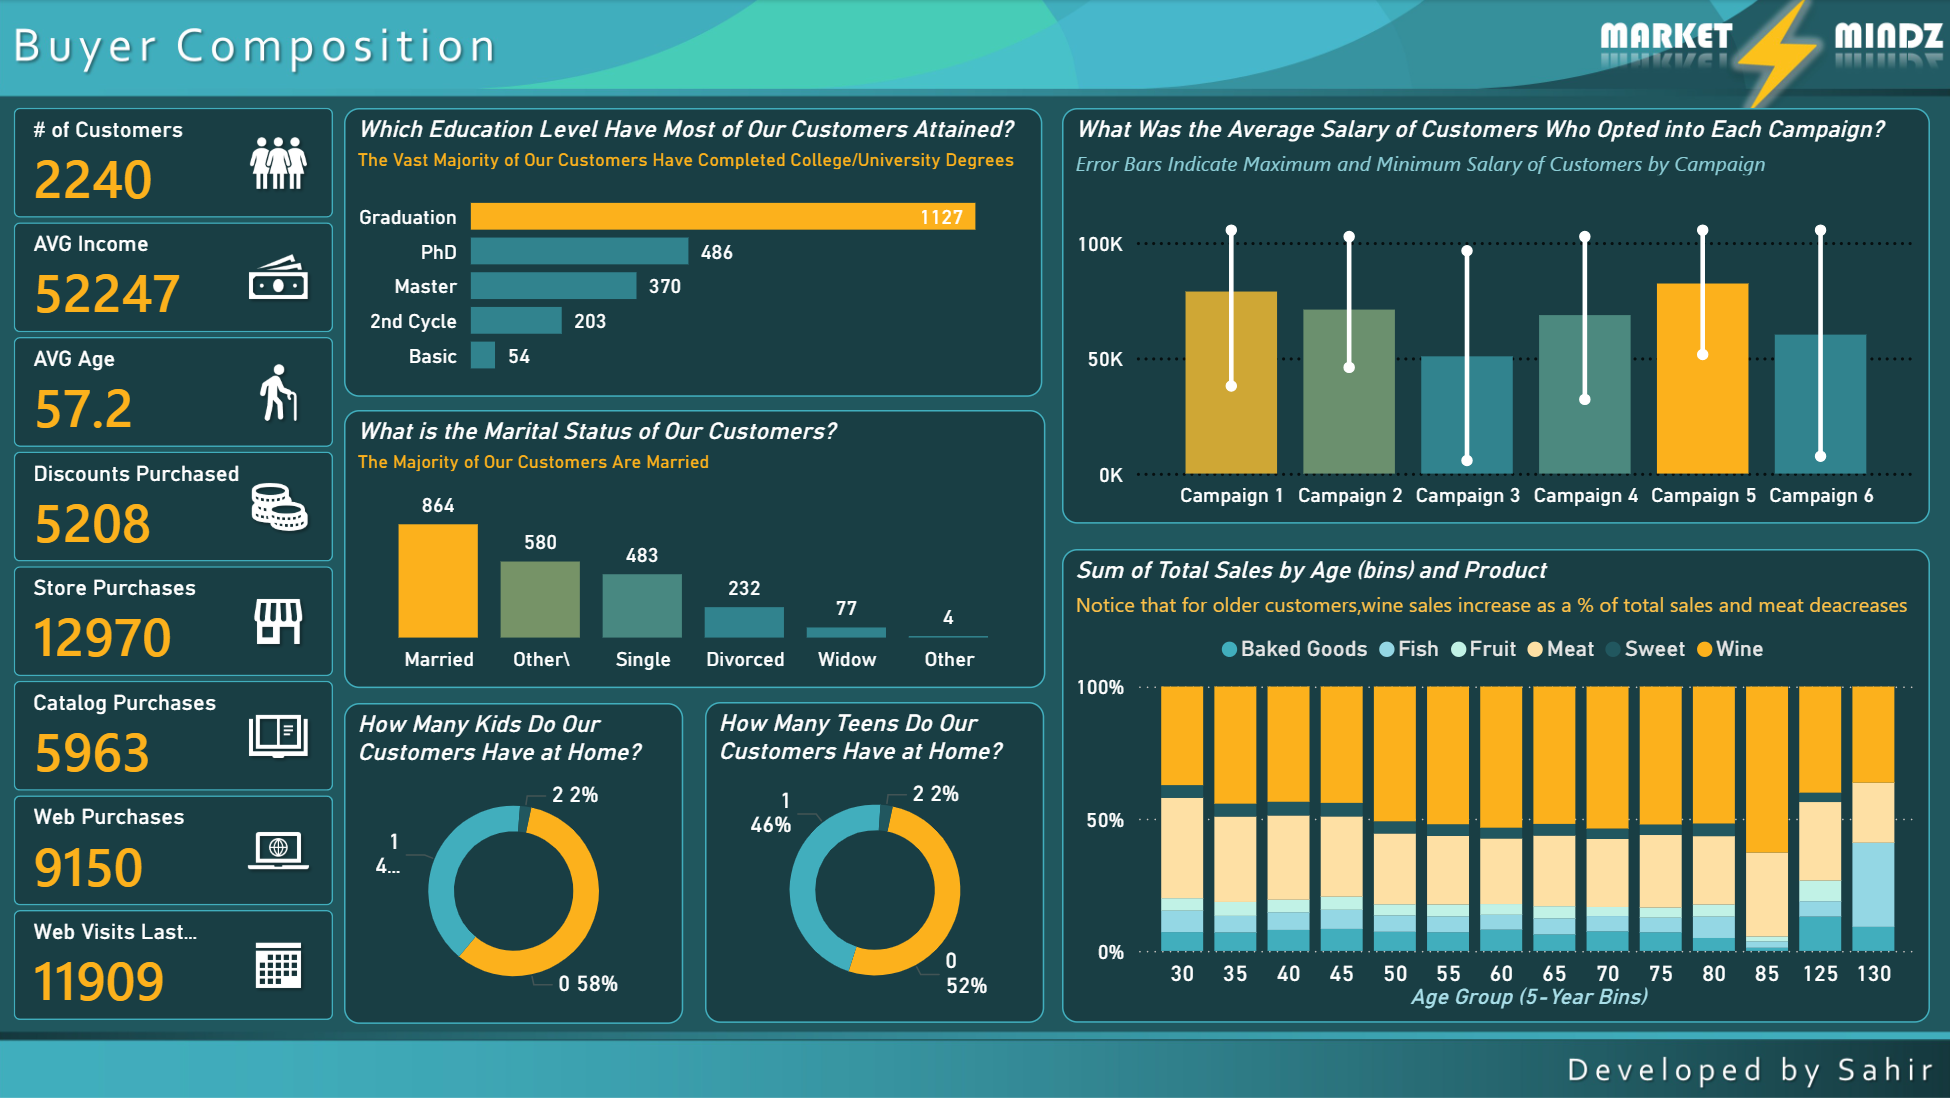

The dashboard page shown, as its layout file describes it:
{"tool":"powerbi","page":{"name":"Buyer Composition","canvas":[1280,720],"ordinal":1},"visuals":[{"type":"clusteredBarChart","title":"Which Education Level Have Most of Our Customers Attained?","fields":{"Category":["marketmindz_research_data.Education"],"Y":["CountNonNull(marketmindz_research_data.ID)"]},"box":[227.1,70.7,457.4,189.1],"z":0},{"type":"clusteredColumnChart","title":"What is the Marital Status of Our Customers?","fields":{"Category":["marketmindz_research_data.Marital_Status"],"Y":["CountNonNull(marketmindz_research_data.ID)"]},"box":[227.1,268.3,458.7,181.9],"z":1000},{"type":"donutChart","title":"How Many Kids Do Our Customers Have at Home?","fields":{"Category":["marketmindz_research_data.Kidhome"],"Y":["CountNonNull(marketmindz_research_data.ID)"]},"box":[227.1,460,222,210],"z":2000},{"type":"donutChart","title":"How Many Teens Do Our Customers Have at Home?","fields":{"Category":["marketmindz_research_data.Teenhome"],"Y":["CountNonNull(marketmindz_research_data.ID)"]},"box":[463.3,459.4,222.5,210.1],"z":3000},{"type":"clusteredColumnChart","title":"What Was the Average Salary of Customers Who Opted into Each Campaign?","fields":{"Category":["Capaign.Capaign"],"Y":["Avg(marketmindz_research_data. Income )"]},"box":[697,71,568,272.2],"z":4000},{"type":"hundredPercentStackedColumnChart","fields":{"Series":["products.Product"],"Y":["Sum(products.Total Sales)"],"Category":["marketmindz_research_data.Age (bins)"]},"box":[697,359,568,310],"z":5000},{"type":"cardVisual","fields":{"Data":["CountNonNull(marketing_data.ID)","Avg(marketing_data. Income )","Avg(marketing_data.Age)","Sum(marketing_data.Purchased - Deal)","Sum(marketing_data.Purchased - Store)","Sum(marketing_data.Purchased - Catalog)","Sum(marketing_data.Purchased - Web)","Sum(marketing_data.Web Visits Last Month)"]},"box":[3.9,63.5,223.1,617.8],"z":6000}]}

Visuals, with their boxes in screenshot pixels (x1, y1, x2, y2), scaled from the page's 1280x720 canvas onto the 1950x1098 screenshot:
"Which Education Level Have Most of Our Customers Attained?" clusteredBarChart: pyautogui.locateOnScreen(346, 108, 1043, 396)
"What is the Marital Status of Our Customers?" clusteredColumnChart: pyautogui.locateOnScreen(346, 409, 1045, 687)
"How Many Kids Do Our Customers Have at Home?" donutChart: pyautogui.locateOnScreen(346, 702, 684, 1022)
"How Many Teens Do Our Customers Have at Home?" donutChart: pyautogui.locateOnScreen(706, 701, 1045, 1021)
"What Was the Average Salary of Customers Who Opted into Each Campaign?" clusteredColumnChart: pyautogui.locateOnScreen(1062, 108, 1927, 523)
hundredPercentStackedColumnChart - products.Product x Sum(products.Total Sales): pyautogui.locateOnScreen(1062, 547, 1927, 1020)
cardVisual - CountNonNull(marketing_data.ID) x Avg(marketing_data. Income ): pyautogui.locateOnScreen(6, 97, 346, 1039)
